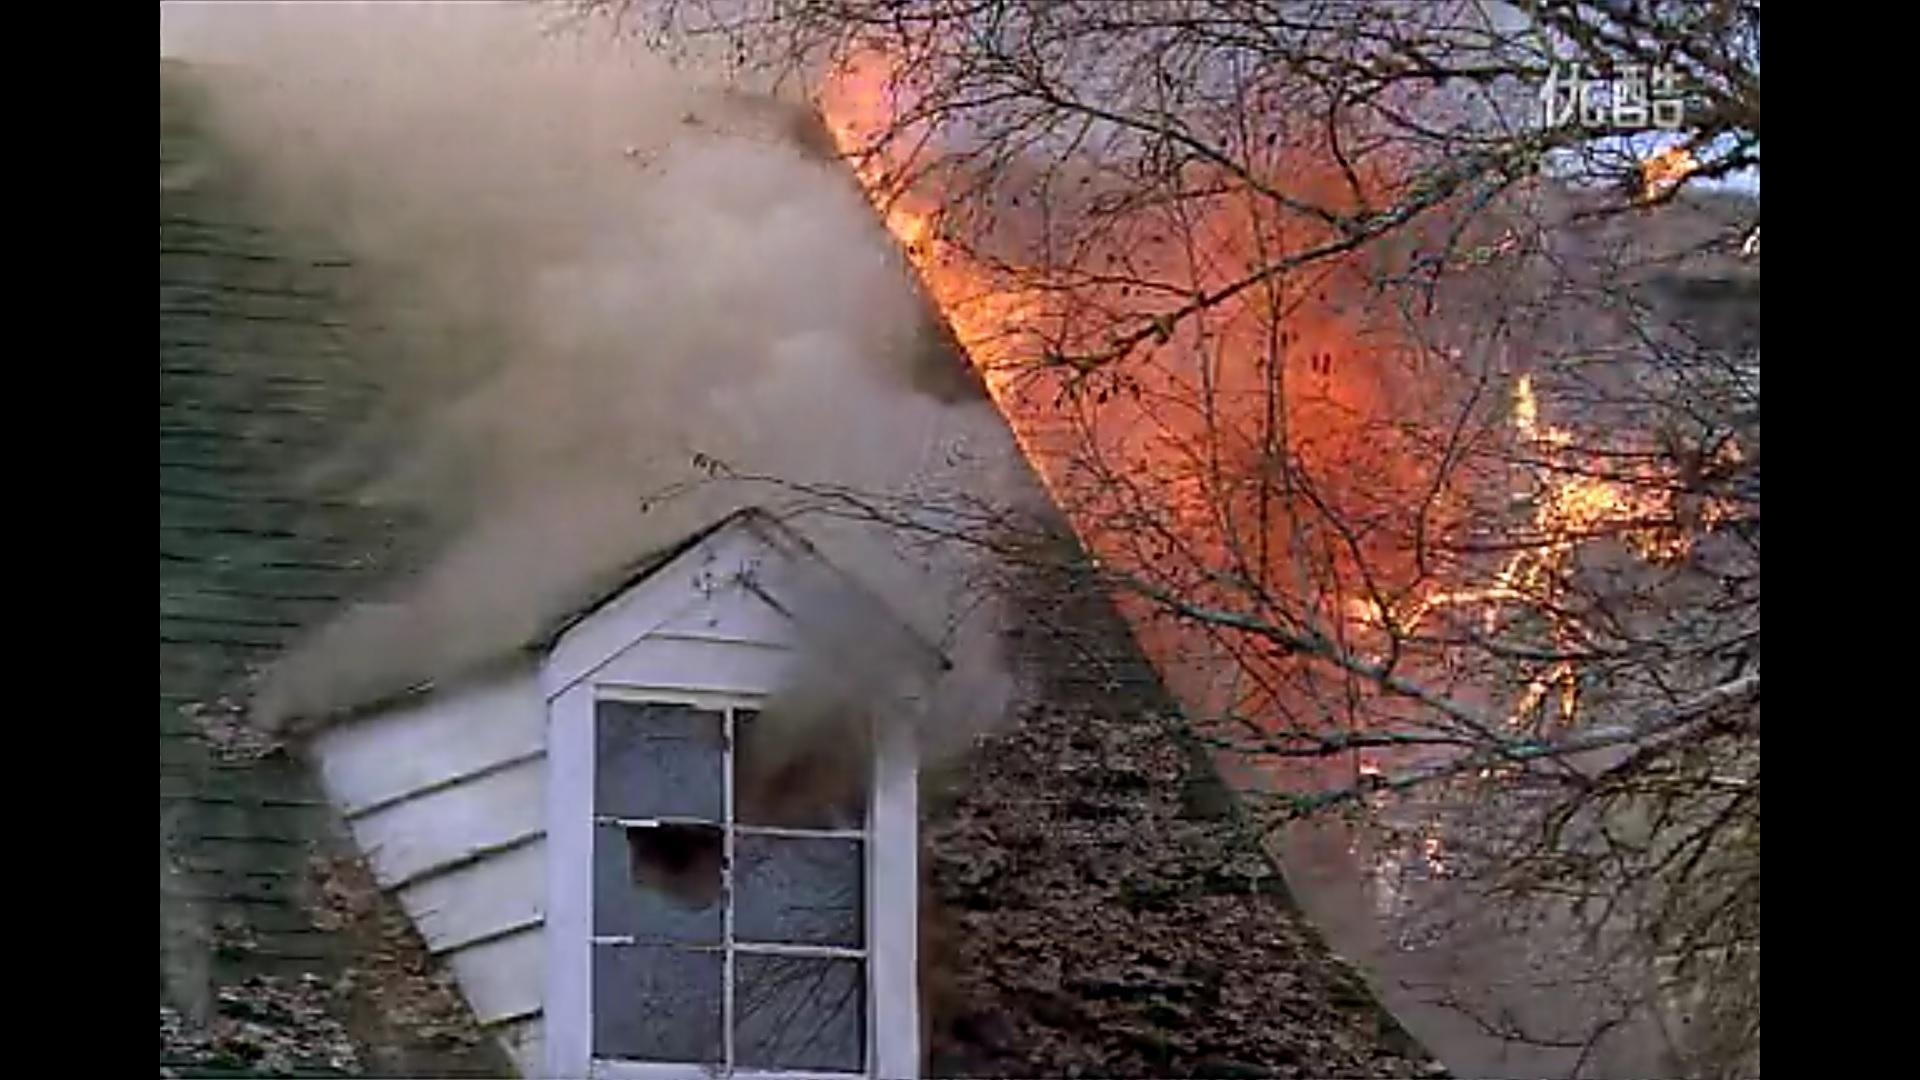fire: (887, 47, 1724, 753)
